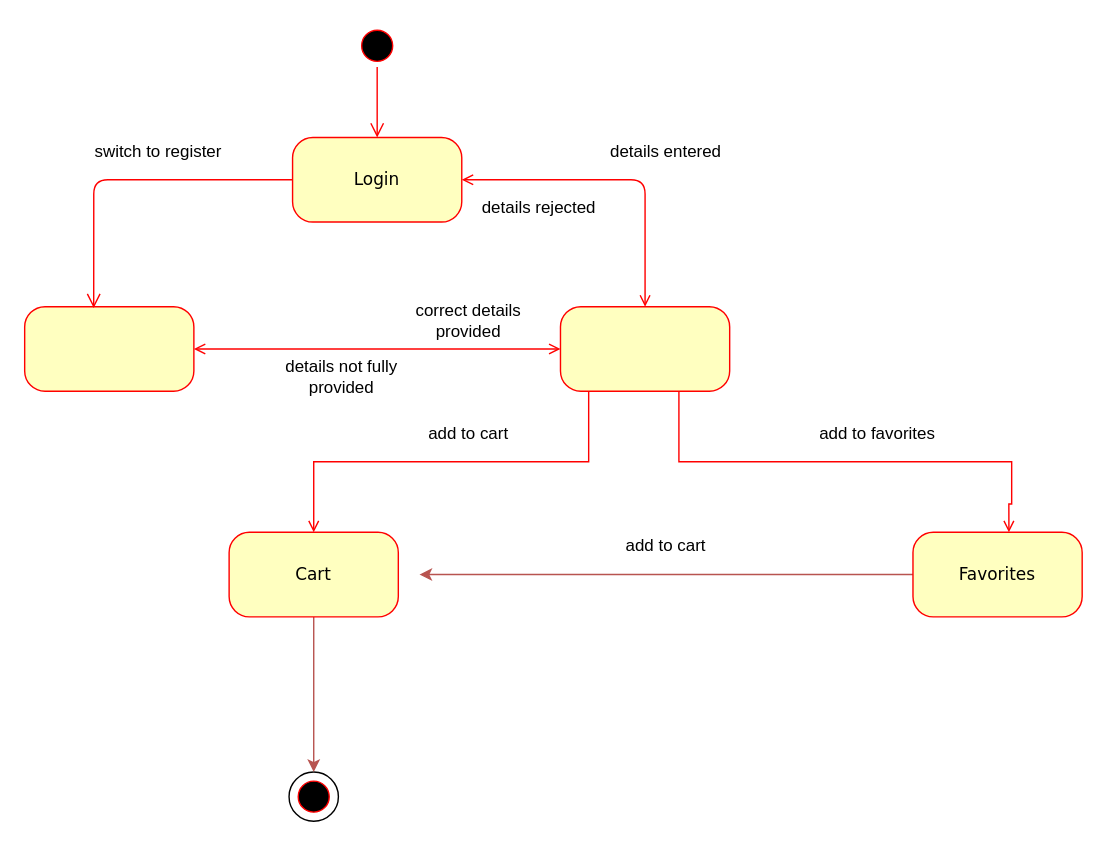
Some shapes in this 1107 by 846 pixel diagram are drawn without their labels. Each missing label, with the box of its shape:
Landing Page: (559, 305, 730, 391)
Registration: (23, 305, 194, 391)
